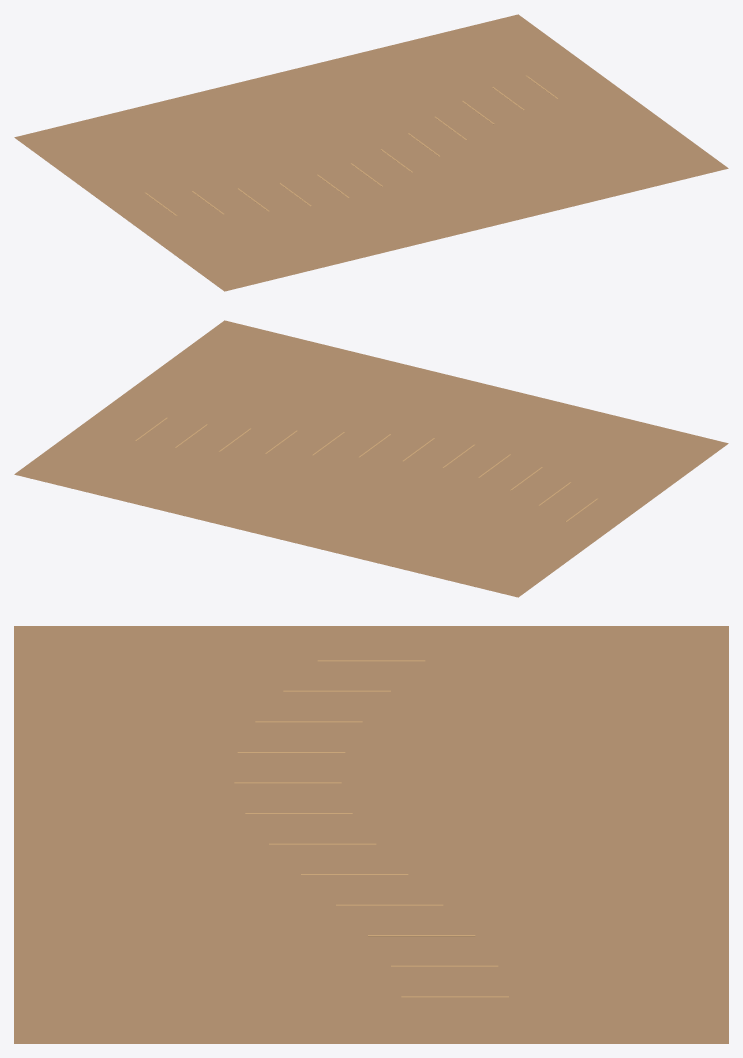
The model's file is 294_L120_L29_LayerReference.glb.
3 views of the same model, one above another, from view 1: azimuth 30°, elevation 25°; view 2: azimuth 150°, elevation 25°; view 3: azimuth 270°, elevation 25° (orthographic). The views are drawn at different scales.
Parts seen in each view (by area): view 1: 0000__PSMAT__copper_dark; view 2: 0000__PSMAT__copper_dark; view 3: 0000__PSMAT__copper_dark.
Part boxes in pixels (<box>): 0000__PSMAT__copper_dark: <box>14,14,728,291</box>; 0000__PSMAT__copper_dark: <box>14,320,728,597</box>; 0000__PSMAT__copper_dark: <box>14,626,728,1043</box>.
Bounding box in the file's own units: 0.506 × 4.6e-05 × 0.366.
